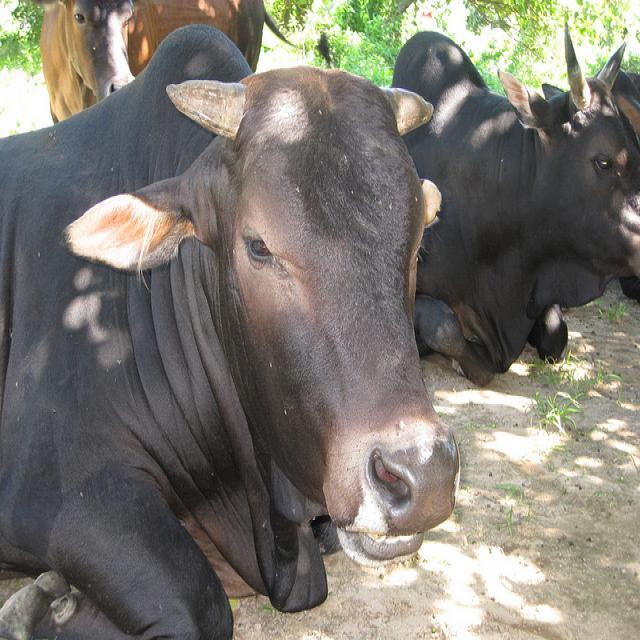cow: (0, 23, 462, 632), (392, 19, 639, 372), (30, 0, 332, 127), (608, 64, 639, 147)
